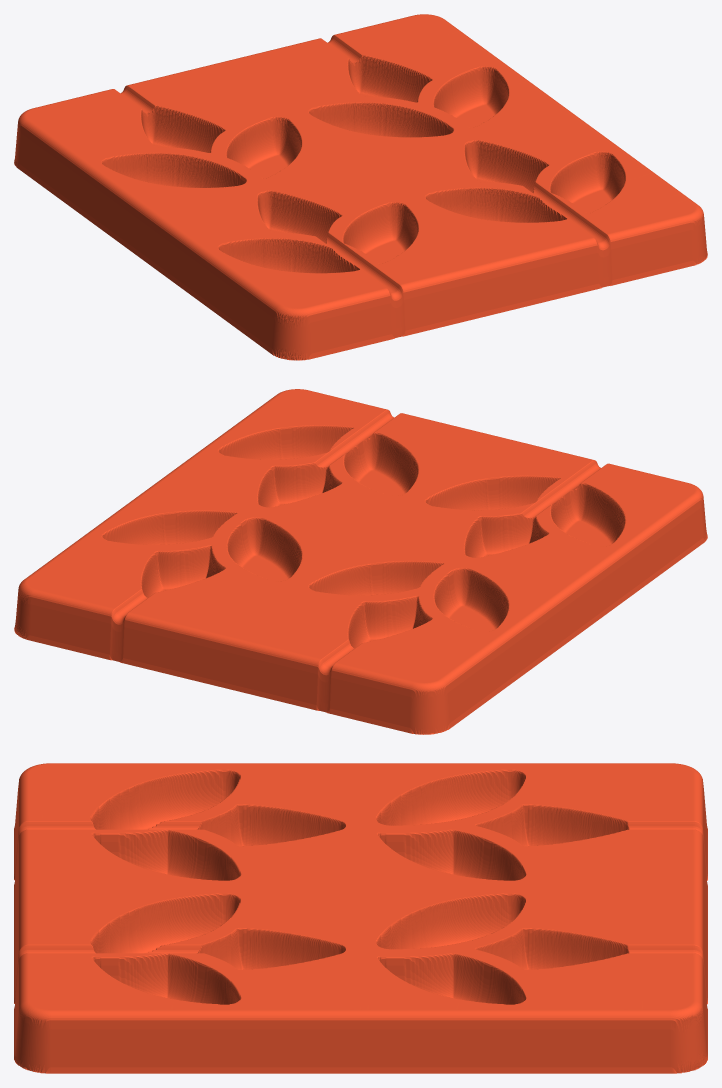
File: mold.glb
3 views of the same model, one above another, from view 1: azimuth 30°, elevation 25°; view 2: azimuth 150°, elevation 25°; view 3: azimuth 270°, elevation 25° (orthographic). The views are drawn at different scales.
Visible parts, largest first — view 1: geometry_0; view 2: geometry_0; view 3: geometry_0.
Boxes of the visible parts, left/top/right/bottom form: geometry_0: left=14, top=14, right=707, bottom=360; geometry_0: left=14, top=389, right=707, bottom=734; geometry_0: left=14, top=763, right=707, bottom=1073.
Bounding box in the file's own units: 0.1497 × 0.0155 × 0.1699.
